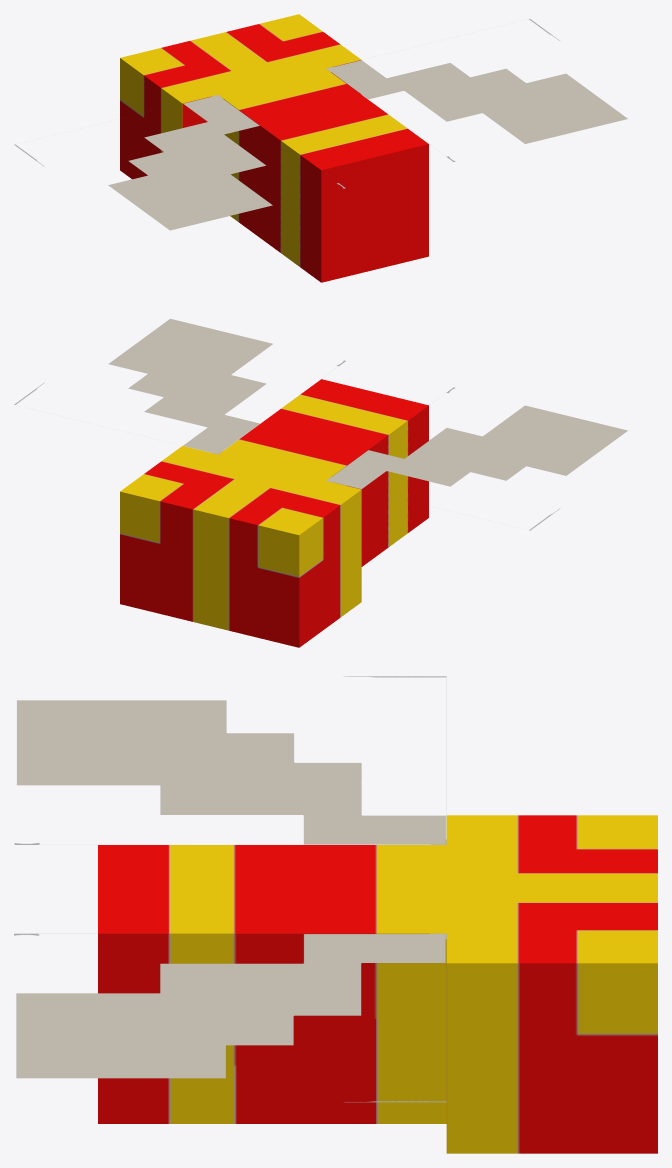
The model's file is bee22.glb.
The picture shows the model from 3 angles, top to bottom: view 1: azimuth 30°, elevation 25°; view 2: azimuth 150°, elevation 25°; view 3: azimuth 270°, elevation 25°; orthographic projection. The views are drawn at different scales.
Parts seen in each view (by area): view 1: TurtleDefaultBakeLayer pPlane6; view 2: TurtleDefaultBakeLayer pPlane6; view 3: TurtleDefaultBakeLayer pPlane6.
Part boxes in pixels (bbox=[...]): TurtleDefaultBakeLayer pPlane6: bbox=[14, 14, 627, 282]; TurtleDefaultBakeLayer pPlane6: bbox=[14, 319, 627, 647]; TurtleDefaultBakeLayer pPlane6: bbox=[14, 676, 657, 1153].
Size of the model in its own units: 28.8 by 6 by 18.4.
Materials: 1 (1 with a texture image).
